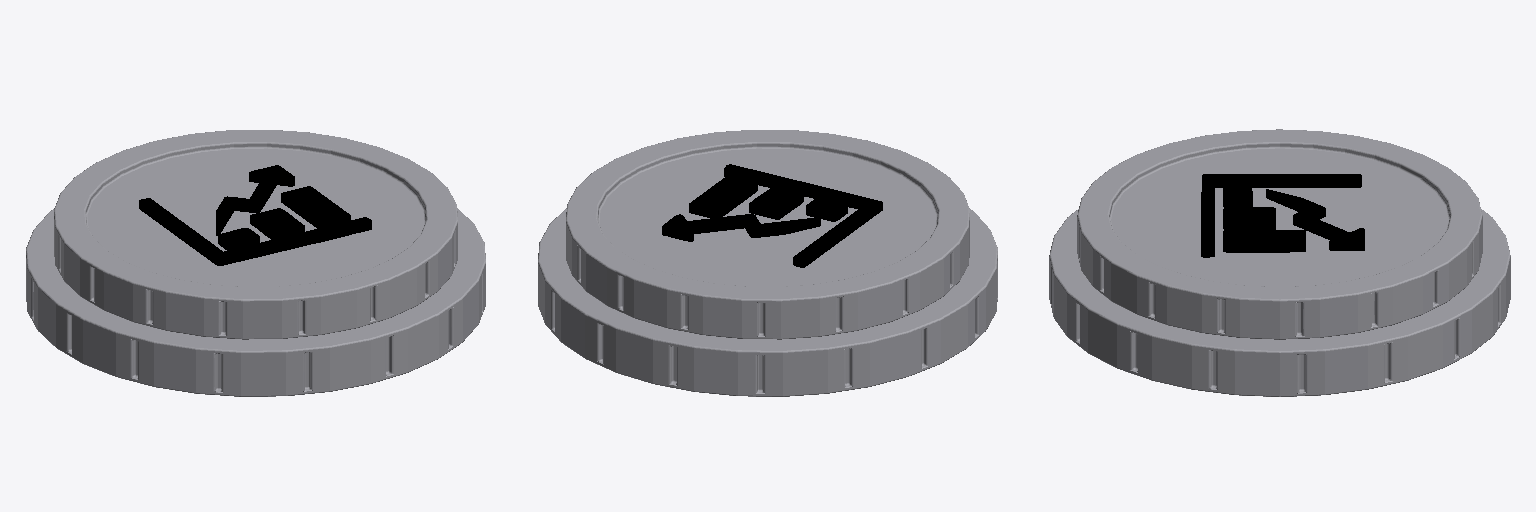
The model's file is podiumF.obj.
3 views of the same model, side by side, from view 1: azimuth 30°, elevation 25°; view 2: azimuth 150°, elevation 25°; view 3: azimuth 270°, elevation 25° (orthographic).
Parts seen in each view (by area): view 1: Base.003, Curve.014; view 2: Base.003, Curve.014; view 3: Base.003, Curve.014.
Boxes of the visible parts, x1,y1,x2,y2 form: Base.003: [26, 130, 485, 396]; Curve.014: [139, 165, 371, 265]; Base.003: [538, 130, 997, 396]; Curve.014: [662, 164, 882, 267]; Base.003: [1049, 129, 1510, 396]; Curve.014: [1201, 174, 1364, 257].
Size of the model in its own units: 6.37 by 1.35 by 6.37.